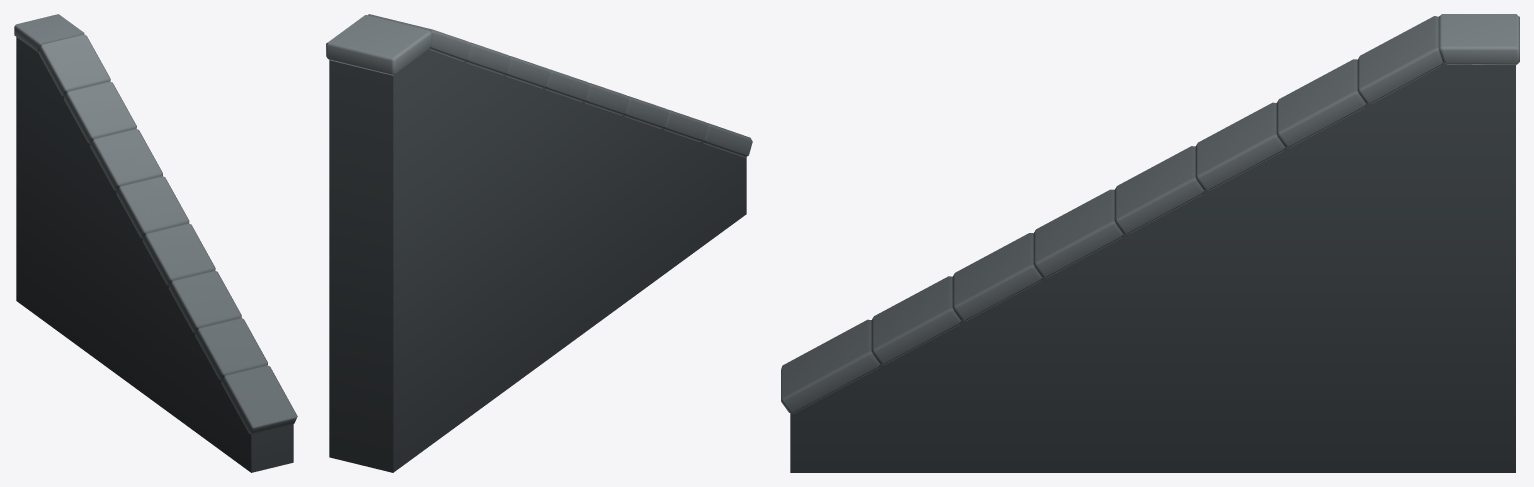
Rendered from fence_002.glb.
3 views of the same model, side by side, from view 1: azimuth 30°, elevation 25°; view 2: azimuth 150°, elevation 25°; view 3: azimuth 270°, elevation 25° (orthographic). The views are drawn at different scales.
Parts seen in each view (by area): view 1: fence_002; view 2: fence_002; view 3: fence_002.
Part boxes in pixels (left/top/right/bottom): fence_002: left=14, top=14, right=297, bottom=472; fence_002: left=326, top=14, right=752, bottom=472; fence_002: left=781, top=14, right=1519, bottom=472.
Bounding box in the file's own units: 0.9953 × 5.66 × 8.88.
Materials: 1 (1 with a texture image).
